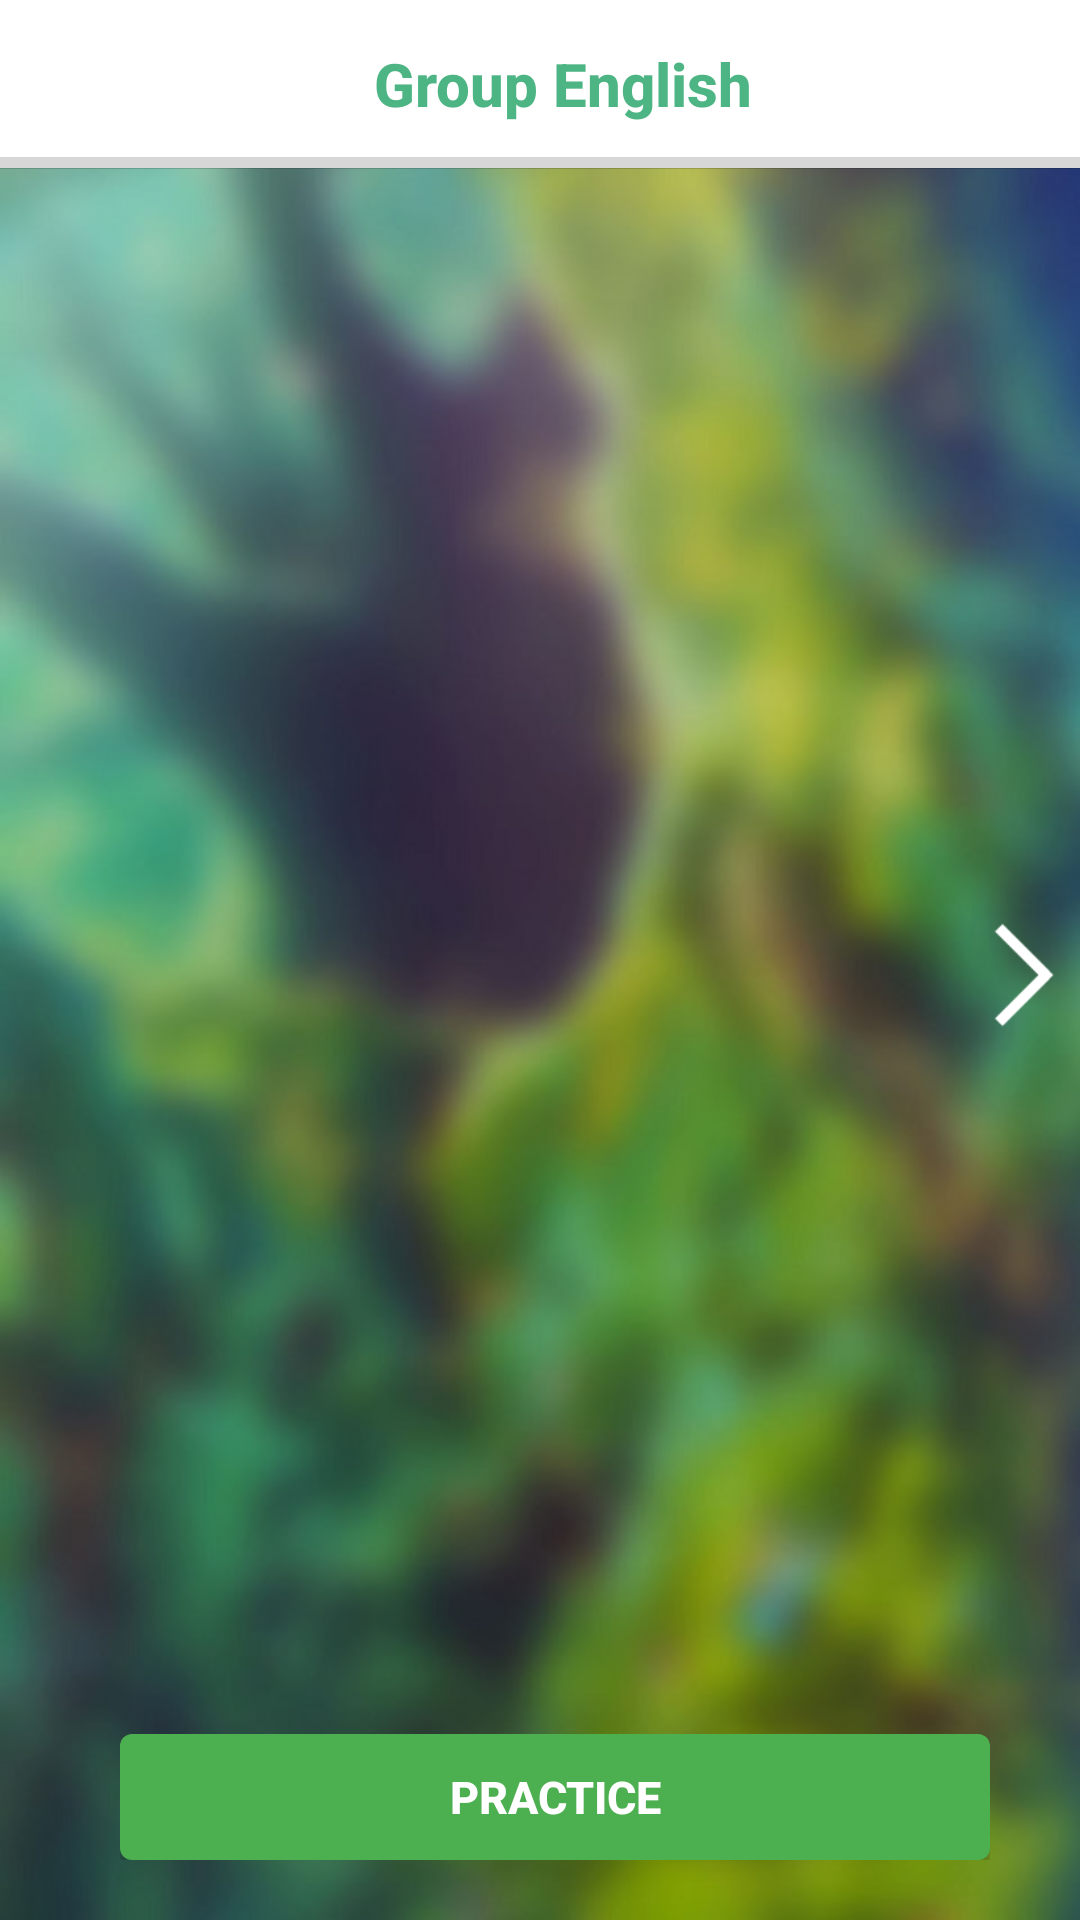

Screen size 1080px x 1920px. Icon name, then its center in pixels as (x=x, y=y):
next: (x=1017, y=975)
